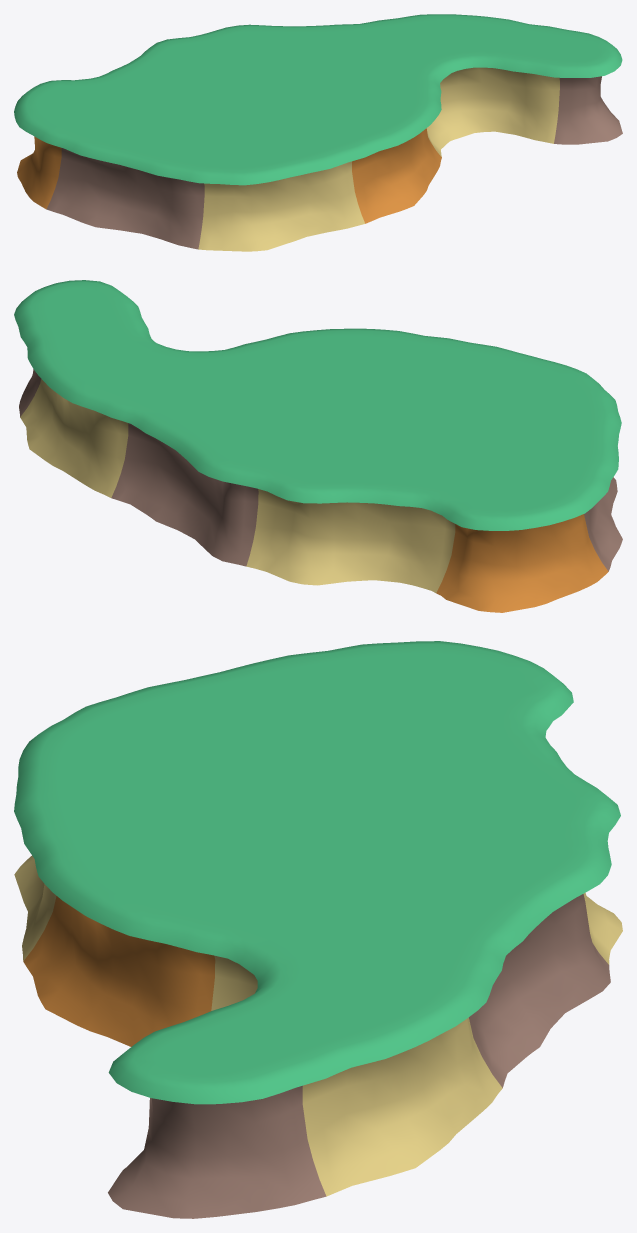
Rendered from Mod_A5b_Lm2.fbx.
3 views of the same model, one above another, from view 1: azimuth 30°, elevation 25°; view 2: azimuth 150°, elevation 25°; view 3: azimuth 270°, elevation 25° (orthographic). The views are drawn at different scales.
Visible parts, largest first — view 1: Mod_A5b_Lm2; view 2: Mod_A5b_Lm2; view 3: Mod_A5b_Lm2.
Boxes of the visible parts, bbox=[...] form: Mod_A5b_Lm2: bbox=[14, 14, 622, 251]; Mod_A5b_Lm2: bbox=[14, 280, 622, 612]; Mod_A5b_Lm2: bbox=[14, 641, 622, 1218].
Bounding box in the file's own units: 3349 × 442 × 1881.
